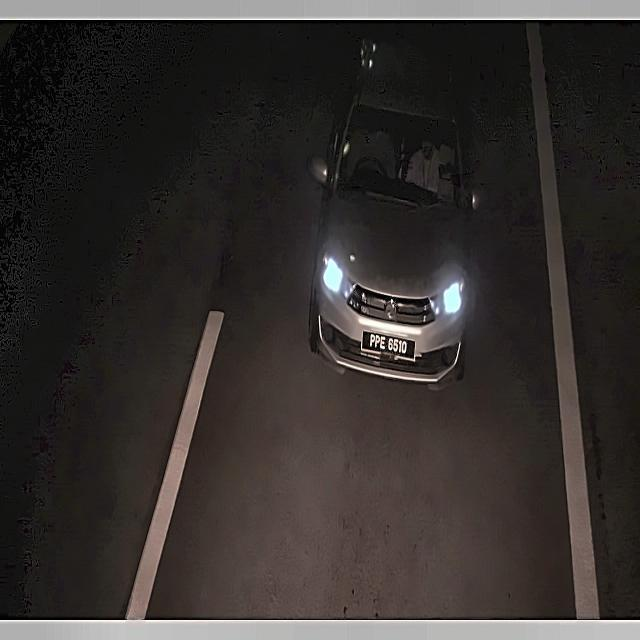car: (357, 317, 423, 364)
